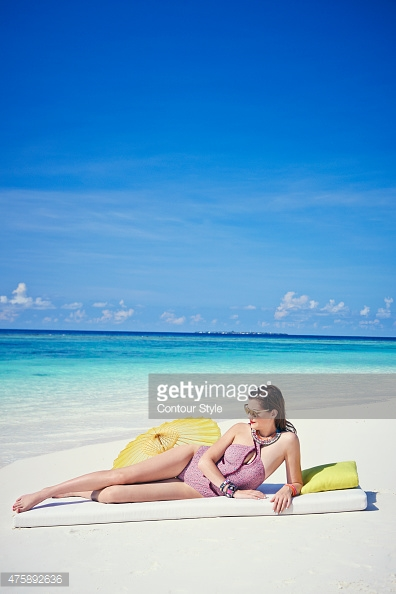deitado: (200, 393, 299, 502)
